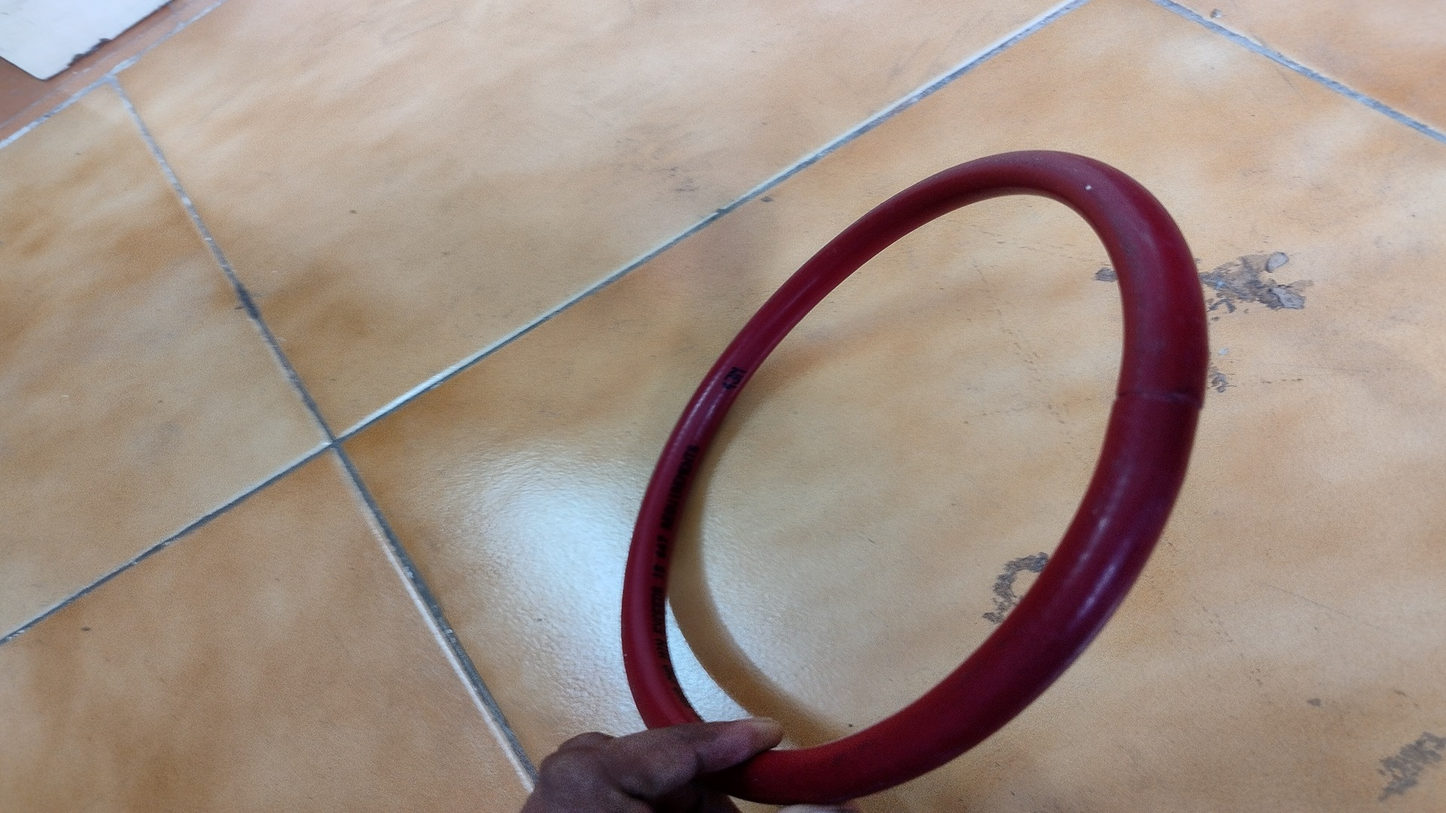Red ring: (624, 151, 1198, 781)
